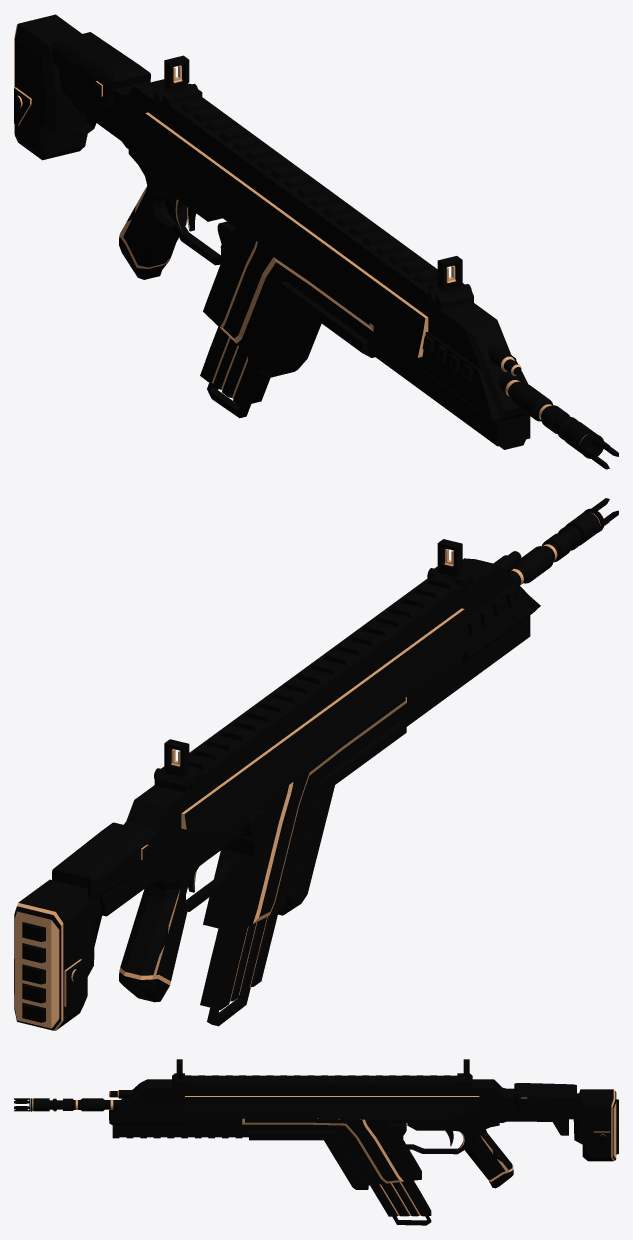
File: r 101 Titanfall.fbx
3 renders of one model, top to bottom at view 1: azimuth 30°, elevation 25°; view 2: azimuth 150°, elevation 25°; view 3: azimuth 270°, elevation 25°, orthographic. The views are drawn at different scales.
Parts seen in each view (by area): view 1: Gun not a rip off 101; view 2: Gun not a rip off 101; view 3: Gun not a rip off 101.
Boxes of the visible parts, x1,y1,x2,y2 form: Gun not a rip off 101: (14, 14, 618, 469); Gun not a rip off 101: (14, 498, 618, 1030); Gun not a rip off 101: (14, 1059, 618, 1225).
Size of the model in its own units: 108 by 537 by 1809.
